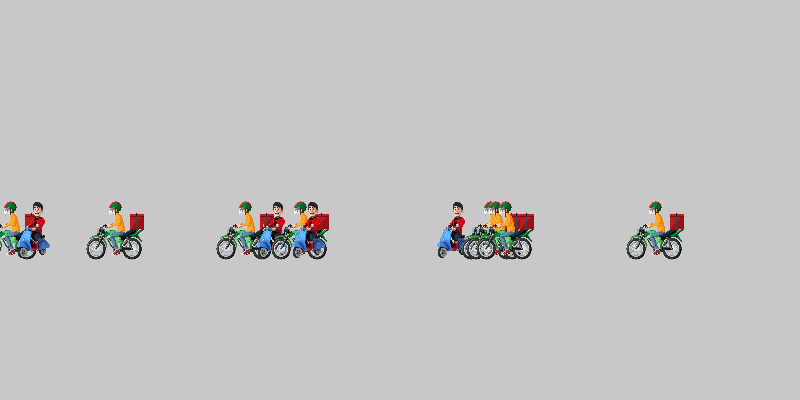helmet: (85, 200, 145, 260), (215, 200, 275, 260), (270, 200, 330, 260), (460, 200, 520, 260), (465, 200, 525, 260), (475, 200, 535, 260), (625, 200, 685, 260), (0, 200, 40, 260)
no_helmet: (5, 200, 65, 260), (245, 200, 305, 260), (280, 200, 340, 260), (425, 200, 485, 260)
